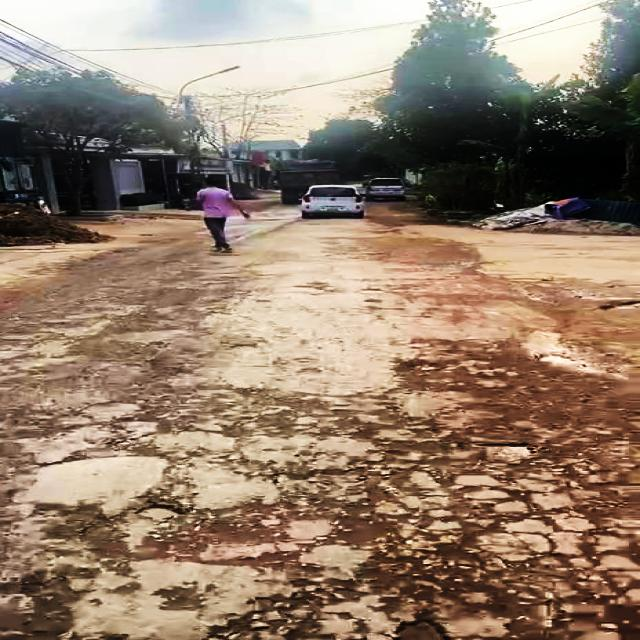pothole: (259, 455, 444, 553), (492, 551, 640, 640), (473, 438, 555, 472), (128, 498, 207, 526), (391, 610, 462, 640)
